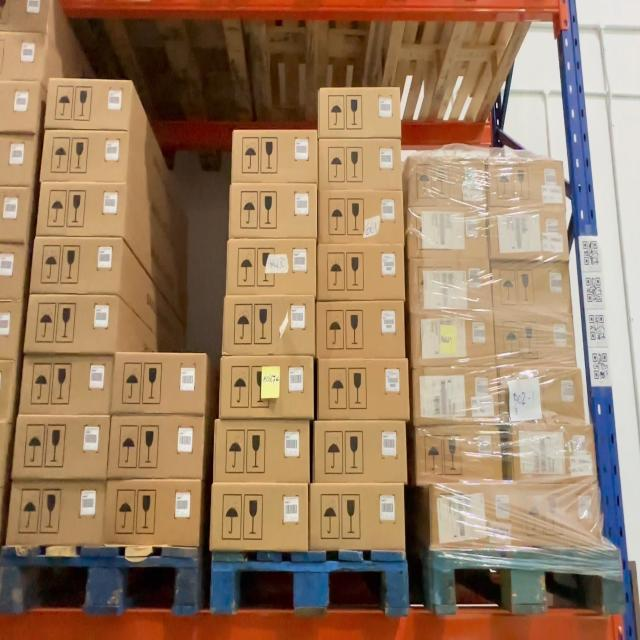box: (433, 487, 599, 541), (212, 485, 308, 544), (220, 359, 314, 417), (315, 423, 407, 482), (312, 485, 402, 545), (216, 423, 308, 481), (109, 486, 196, 546), (321, 359, 408, 418), (111, 420, 201, 476), (226, 243, 316, 299), (12, 486, 100, 542), (227, 301, 314, 357), (316, 300, 404, 355), (230, 186, 315, 242), (320, 188, 402, 246), (17, 423, 106, 476), (418, 426, 501, 482), (118, 358, 204, 412), (25, 358, 109, 412), (28, 299, 116, 350), (36, 240, 120, 293), (500, 369, 584, 421), (514, 429, 596, 480), (320, 248, 403, 298), (411, 261, 491, 311), (417, 369, 497, 419), (234, 131, 317, 179), (493, 262, 569, 314), (409, 208, 488, 257), (321, 88, 399, 136), (411, 158, 485, 208), (412, 313, 494, 358), (41, 192, 122, 236), (49, 82, 128, 126), (491, 211, 567, 255), (321, 145, 400, 187), (497, 317, 574, 360), (46, 139, 125, 180), (490, 162, 564, 203)
